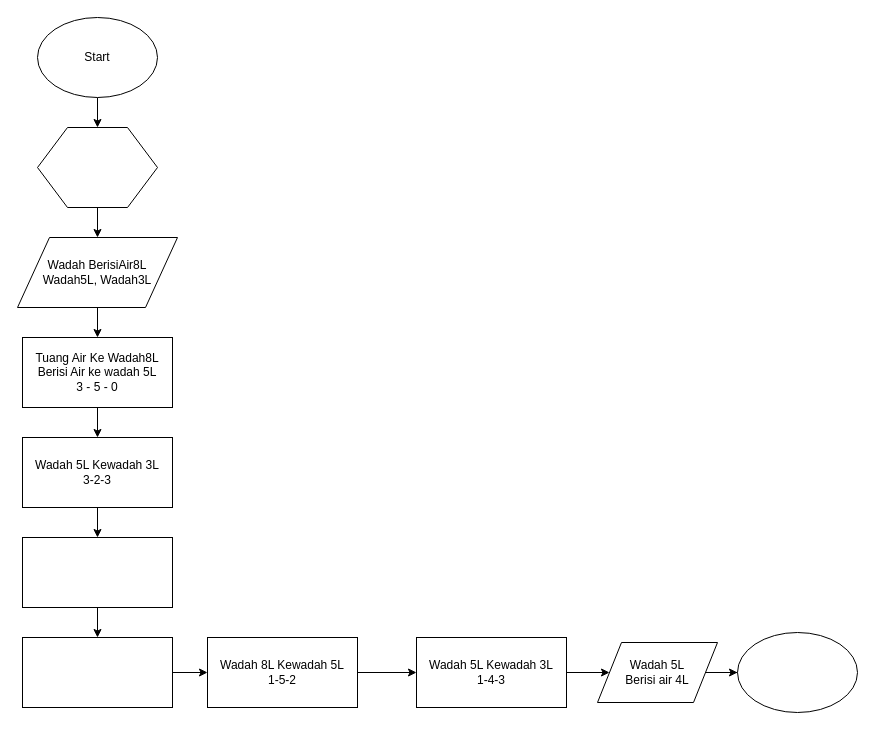
Some shapes in this 875 by 730 pixel diagram are drawn without their labels. The centre of each missing label's shape, as x and y in pixels:
End: point 797,672
Tabung 8L,Tabung 5L, Tabung 4L: point 97,167
Wadah 3L Kewadah 8L 6-2-0: point 97,572
Wadah 5L Kewadah 3L 6-0-2: point 97,672
